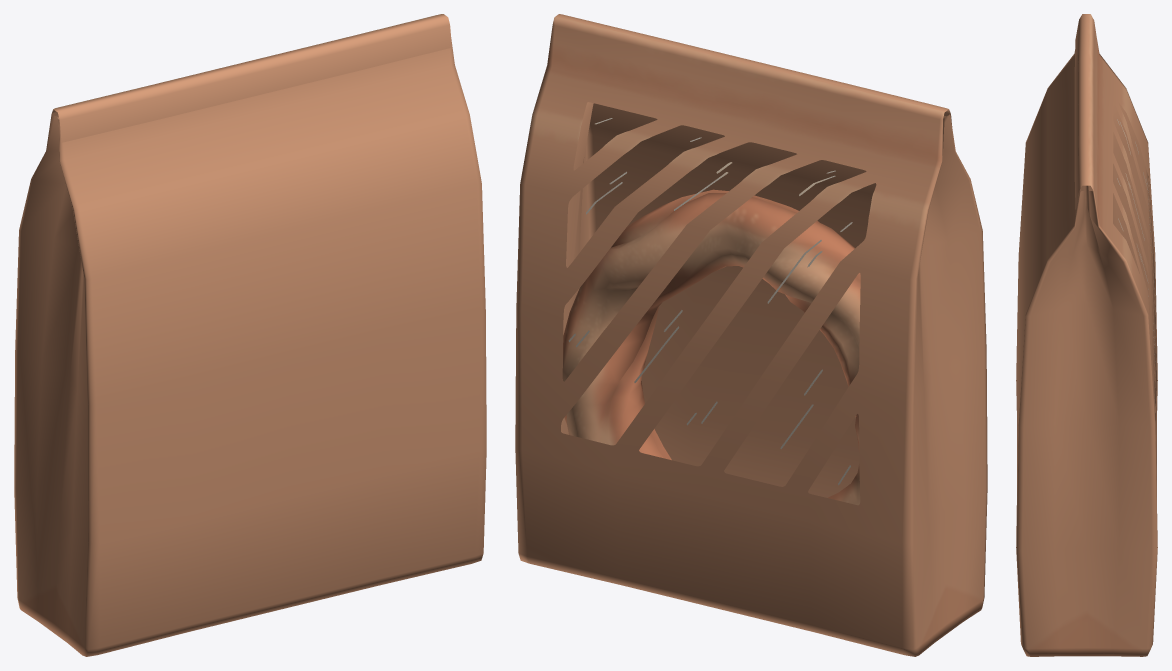
The model's file is ring_pocket.fbx.
3 views of the same model, side by side, from view 1: azimuth 30°, elevation 25°; view 2: azimuth 150°, elevation 25°; view 3: azimuth 270°, elevation 25° (orthographic). The views are drawn at different scales.
Visible parts, largest first — view 1: ring_packet_01.001; view 2: ring_packet_01.001; view 3: ring_packet_01.001.
Boxes of the visible parts, x1=… form: ring_packet_01.001: x1=14, y1=14, x2=486, y2=656; ring_packet_01.001: x1=515, y1=14, x2=987, y2=656; ring_packet_01.001: x1=1016, y1=14, x2=1157, y2=656.
Size of the model in its own units: 16.35 by 20.48 by 5.6.
